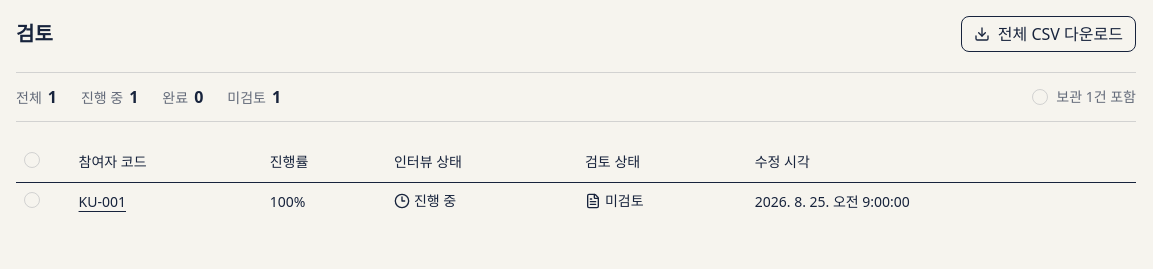
Test: administrator interview queue › keeps archived interviews out of the queue until they are asked for
The image size is (1153, 269).
Expected: the link "KU-001" is shown, [79, 192, 126, 211]
Expected: the text "KU-009" is not shown
Click the checkbox named "보관 포함" at (1040, 97), box [1032, 89, 1048, 105]
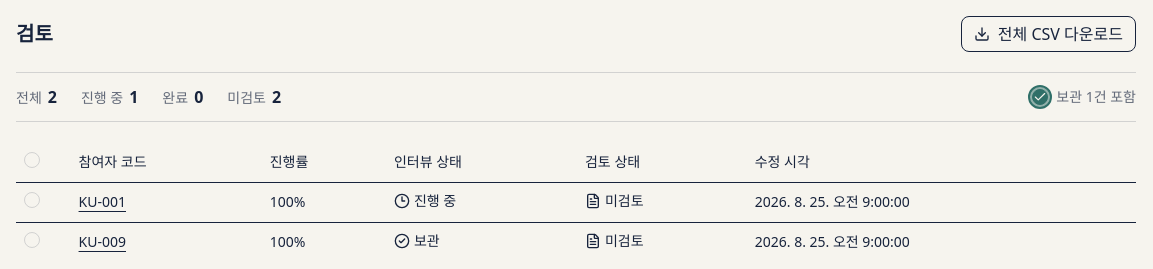
Result: the link "KU-009" is shown at [79, 232, 126, 251]
